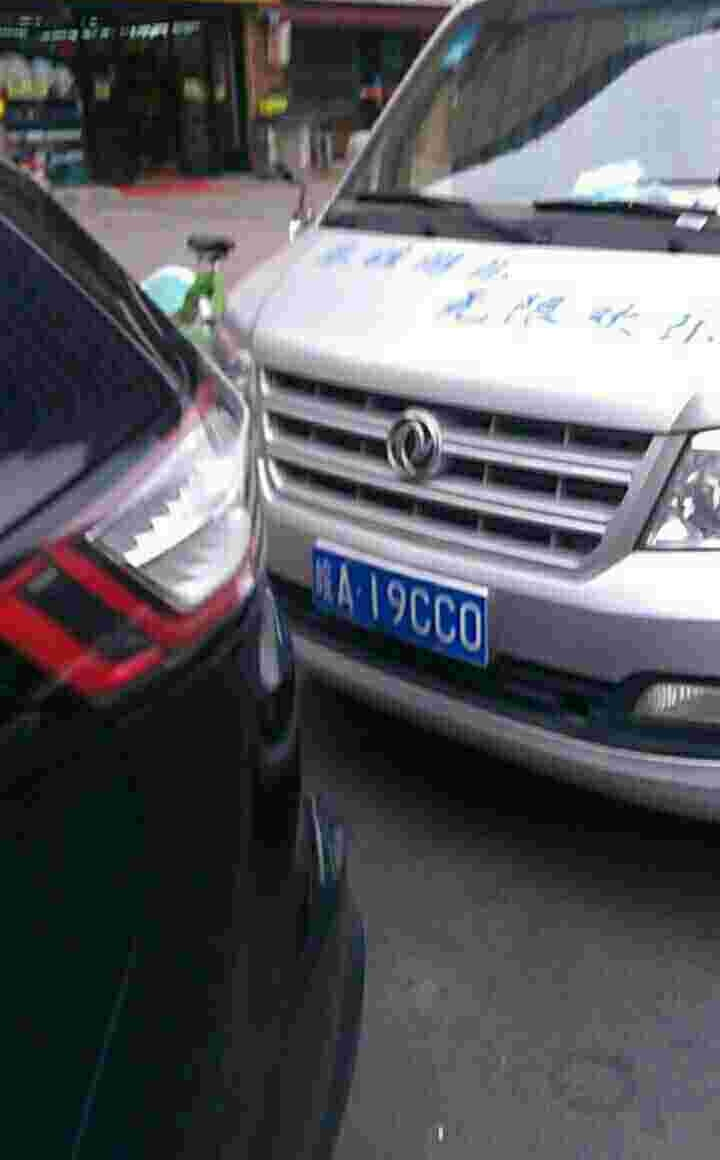license_plate: (301, 541, 494, 669)
